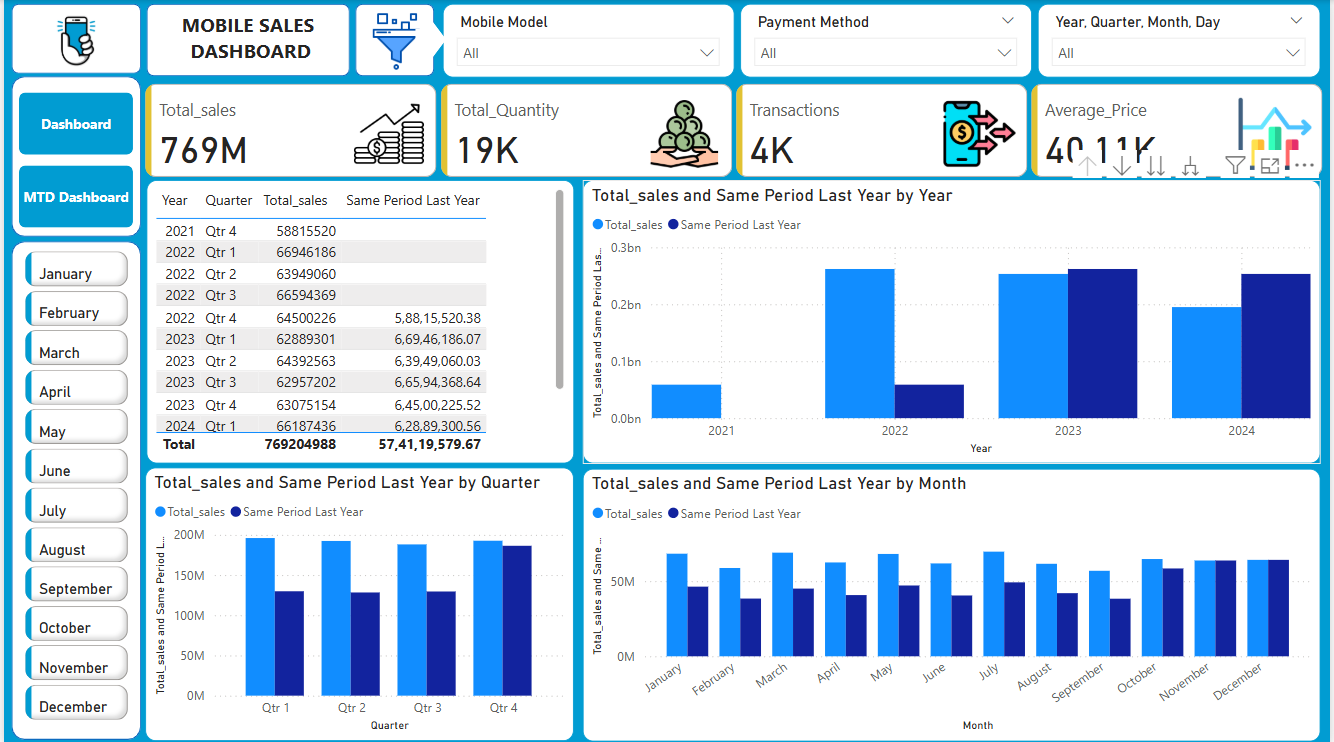

Layout of this report page (visuals, bound fields, positions):
{"tool":"powerbi","page":{"name":"Same Period Last Year","canvas":[1280,720],"ordinal":2},"visuals":[{"type":"shape","box":[7.5,3.8,125,67.5],"z":0},{"type":"image","box":[30.2,4.1,79.6,71.4],"z":1000},{"type":"shape","box":[7.5,73.8,125,155],"z":2000},{"type":"shape","box":[7.5,232.5,125,481.2],"z":3000},{"type":"cardVisual","fields":{"Data":["Mobile_Sales_Data.Total_sales","Mobile_Sales_Data.Total_Quantity","Mobile_Sales_Data.Transactions","Mobile_Sales_Data.Average_Price"]},"box":[131.7,75.5,1147.2,100.2],"z":4000},{"type":"advancedSlicerVisual","fields":{"Values":["Custom_Calender.Date.Variation.Date Hierarchy.Month"]},"box":[15.1,237.4,109.8,472],"z":5000},{"type":"slicer","fields":{"Values":["Mobile_Sales_Data.Payment Method"]},"box":[710,3.8,281.2,71.2],"z":6000},{"type":"slicer","fields":{"Values":["Mobile_Sales_Data.Mobile Model"]},"box":[423.8,3.8,281.2,71.2],"z":7000},{"type":"shape","box":[338.8,3.8,76.2,70],"z":8000},{"type":"image","box":[337.6,6.9,81,65.9],"z":9000},{"type":"shape","box":[397.5,17.5,30,40],"z":10000},{"type":"shape","box":[137.5,3.8,196.2,70],"z":11000},{"type":"textbox","box":[156.2,6.2,162.5,63.8],"z":12000},{"type":"pageNavigator","box":[15,88.8,110,130],"z":13000},{"type":"tableEx","fields":{"Values":["Custom_Calender.Date.Variation.Date Hierarchy.Year","Custom_Calender.Date.Variation.Date Hierarchy.Quarter","Mobile_Sales_Data.Total_sales","Mobile_Sales_Data.Same Period Last Year"]},"box":[137.5,173.8,412.5,273.8],"z":14000},{"type":"clusteredColumnChart","fields":{"Category":["Custom_Calender.Date.Variation.Date Hierarchy.Year","Custom_Calender.Date.Variation.Date Hierarchy.Quarter"],"Y":["Mobile_Sales_Data.Total_sales","Mobile_Sales_Data.Same Period Last Year"]},"box":[558.6,173.7,711.8,273.9],"z":15000},{"type":"clusteredColumnChart","fields":{"Category":["Custom_Calender.Date.Variation.Date Hierarchy.Year","Custom_Calender.Date.Variation.Date Hierarchy.Quarter","Custom_Calender.Date.Variation.Date Hierarchy.Month","Custom_Calender.Date.Variation.Date Hierarchy.Day"],"Y":["Mobile_Sales_Data.Total_sales","Mobile_Sales_Data.Same Period Last Year"]},"box":[558.6,452.4,711.8,263],"z":16000},{"type":"clusteredColumnChart","fields":{"Category":["Custom_Calender.Date.Variation.Date Hierarchy.Year","Custom_Calender.Date.Variation.Date Hierarchy.Quarter"],"Y":["Mobile_Sales_Data.Total_sales","Mobile_Sales_Data.Same Period Last Year"]},"box":[136.3,451.2,413.8,264.2],"z":17000},{"type":"slicer","fields":{"Values":["Custom_Calender.Date.Variation.Date Hierarchy.Year","Custom_Calender.Date.Variation.Date Hierarchy.Quarter","Custom_Calender.Date.Variation.Date Hierarchy.Month","Custom_Calender.Date.Variation.Date Hierarchy.Day"]},"box":[997.5,3.8,272.5,71.2],"z":18000}]}

Visuals, with their boxes in screenshot pixels (x1, y1, x2, y2), scaled from the page's 1280x720 canvas onto the 1334x742 screenshot:
shape: box=[8, 4, 138, 73]
image: box=[31, 4, 114, 78]
shape: box=[8, 76, 138, 236]
shape: box=[8, 240, 138, 736]
cardVisual - Mobile_Sales_Data.Total_sales x Mobile_Sales_Data.Total_Quantity: box=[137, 78, 1333, 181]
advancedSlicerVisual - Custom_Calender.Date.Variation.Date Hierarchy.Month: box=[16, 245, 130, 731]
slicer - Mobile_Sales_Data.Payment Method: box=[740, 4, 1033, 77]
slicer - Mobile_Sales_Data.Mobile Model: box=[442, 4, 735, 77]
shape: box=[353, 4, 433, 76]
image: box=[352, 7, 436, 75]
shape: box=[414, 18, 446, 59]
shape: box=[143, 4, 348, 76]
textbox: box=[163, 6, 332, 72]
pageNavigator: box=[16, 92, 130, 225]
tableEx - Custom_Calender.Date.Variation.Date Hierarchy.Year x Custom_Calender.Date.Variation.Date Hierarchy.Quarter: box=[143, 179, 573, 461]
clusteredColumnChart - Custom_Calender.Date.Variation.Date Hierarchy.Year x Custom_Calender.Date.Variation.Date Hierarchy.Quarter: box=[582, 179, 1324, 461]
clusteredColumnChart - Custom_Calender.Date.Variation.Date Hierarchy.Year x Custom_Calender.Date.Variation.Date Hierarchy.Quarter: box=[582, 466, 1324, 737]
clusteredColumnChart - Custom_Calender.Date.Variation.Date Hierarchy.Year x Custom_Calender.Date.Variation.Date Hierarchy.Quarter: box=[142, 465, 573, 737]
slicer - Custom_Calender.Date.Variation.Date Hierarchy.Year x Custom_Calender.Date.Variation.Date Hierarchy.Quarter: box=[1040, 4, 1324, 77]
